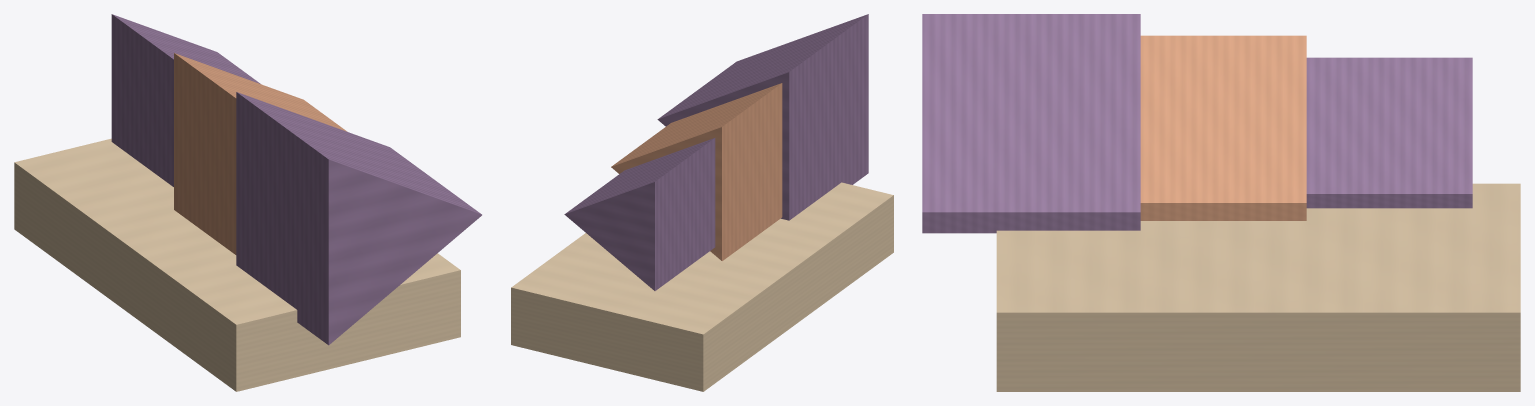
The model's file is atlas100-s081-a05.lod1.glb.
3 views of the same model, side by side, from view 1: azimuth 30°, elevation 25°; view 2: azimuth 150°, elevation 25°; view 3: azimuth 270°, elevation 25° (orthographic). The views are drawn at different scales.
Parts seen in each view (by area): view 1: atlas100-s081-a05:part-004, atlas100-s081-a05:part-002, atlas100-s081-a05:part-001, atlas100-s081-a05:part-000; view 2: atlas100-s081-a05:part-004, atlas100-s081-a05:part-002, atlas100-s081-a05:part-000, atlas100-s081-a05:part-001; view 3: atlas100-s081-a05:part-004, atlas100-s081-a05:part-002, atlas100-s081-a05:part-001, atlas100-s081-a05:part-000.
Part boxes in pixels (x1,y1,x2,y2): atlas100-s081-a05:part-004: [14, 138, 460, 391]; atlas100-s081-a05:part-002: [236, 92, 481, 345]; atlas100-s081-a05:part-001: [174, 53, 347, 254]; atlas100-s081-a05:part-000: [111, 14, 260, 186]; atlas100-s081-a05:part-004: [511, 182, 893, 391]; atlas100-s081-a05:part-002: [657, 14, 868, 220]; atlas100-s081-a05:part-000: [564, 138, 715, 290]; atlas100-s081-a05:part-001: [611, 83, 782, 260]; atlas100-s081-a05:part-004: [996, 183, 1520, 391]; atlas100-s081-a05:part-002: [922, 14, 1140, 233]; atlas100-s081-a05:part-001: [1140, 35, 1306, 220]; atlas100-s081-a05:part-000: [1306, 57, 1472, 208].
Bounding box in the file's own units: 0.3822 × 0.3916 × 0.748.
Materials: 3 (3 with a texture image).
